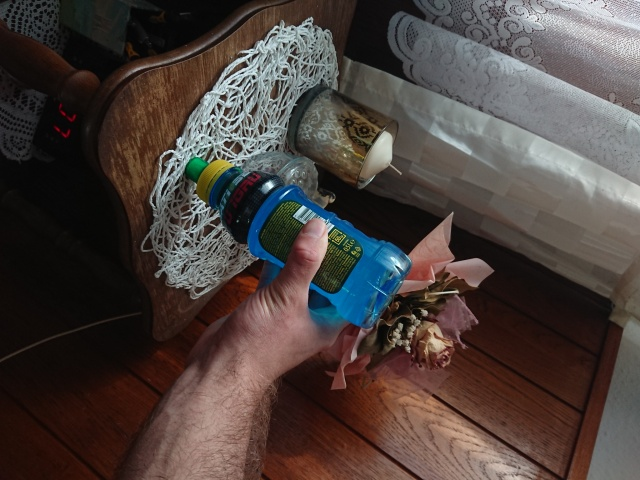Vindi Iso Sport Forest Strawberries 500mL: (182, 154, 413, 330)
